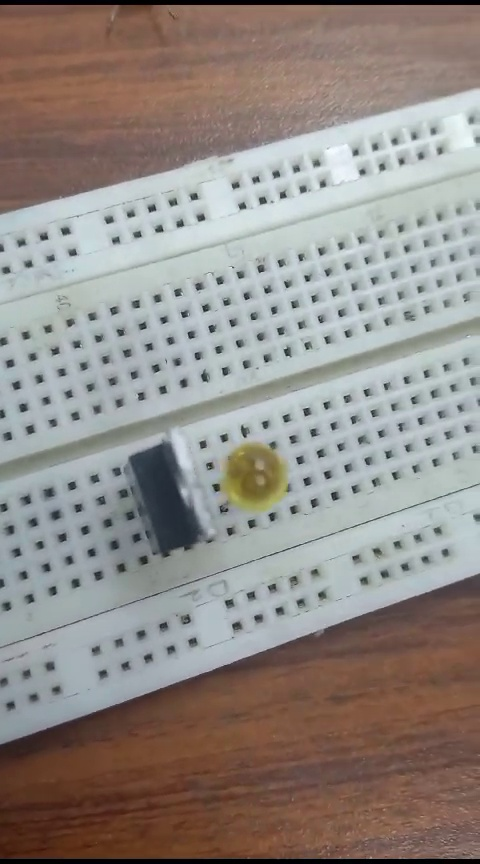LED: (222, 444, 288, 505)
voltage regulator: (108, 423, 214, 571)
